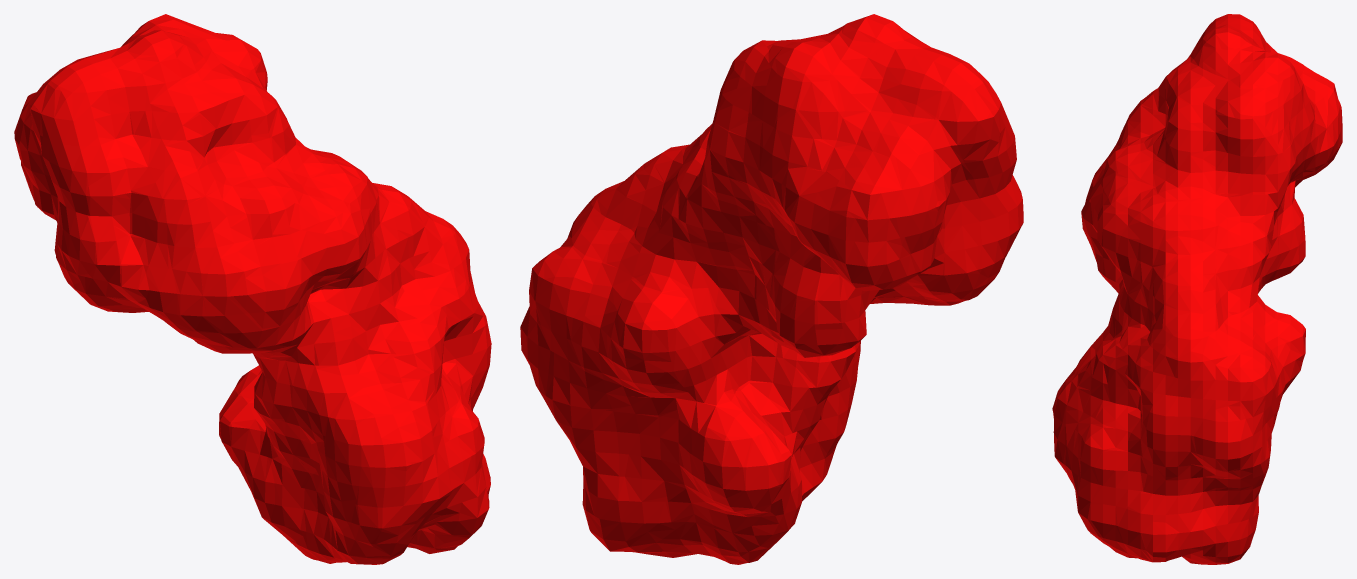
The model's file is sseA_coarse.dae.
3 views of the same model, side by side, from view 1: azimuth 30°, elevation 25°; view 2: azimuth 150°, elevation 25°; view 3: azimuth 270°, elevation 25° (orthographic). The views are drawn at different scales.
Parts seen in each view (by area): view 1: sseA; view 2: sseA; view 3: sseA.
Boxes of the visible parts, box(x1,y1,x2,y2) form: sseA: box(14, 14, 491, 564); sseA: box(520, 14, 1023, 564); sseA: box(1052, 14, 1342, 564).
Size of the model in its own units: 77.09 by 93.27 by 54.48.
